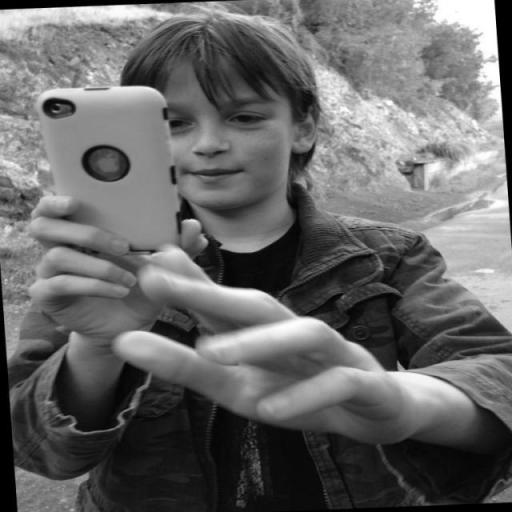phone: (36, 83, 181, 258)
